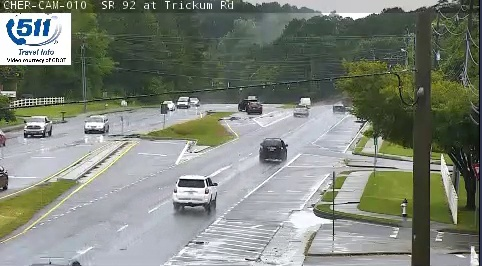car: (172, 175, 216, 205), (259, 137, 286, 160), (292, 105, 309, 117)
